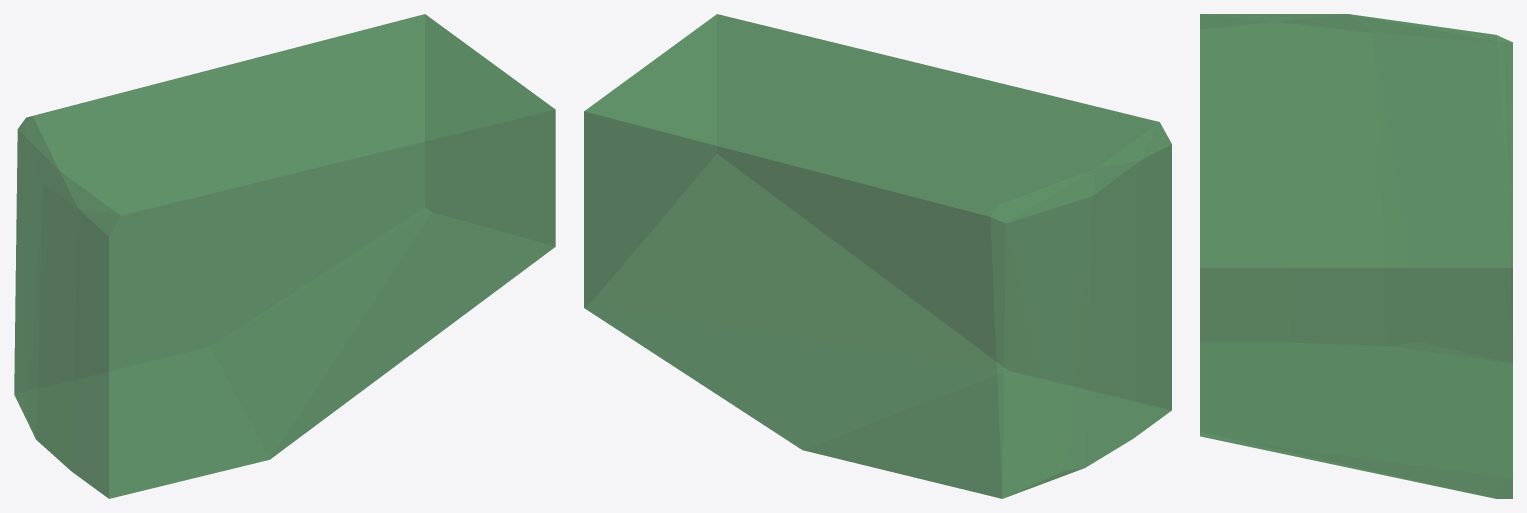
3 views of the same model, side by side, from view 1: azimuth 30°, elevation 25°; view 2: azimuth 150°, elevation 25°; view 3: azimuth 270°, elevation 25° (orthographic). The views are drawn at different scales.
Visible parts, largest first — view 1: Shape_IndexedFaceSet.003_Shape_IndexedFaceSet.17578; view 2: Shape_IndexedFaceSet.003_Shape_IndexedFaceSet.17578; view 3: Shape_IndexedFaceSet.003_Shape_IndexedFaceSet.17578.
Boxes of the visible parts, x1,y1,x2,y2 form: Shape_IndexedFaceSet.003_Shape_IndexedFaceSet.17578: (14,14,555,498); Shape_IndexedFaceSet.003_Shape_IndexedFaceSet.17578: (584,14,1171,498); Shape_IndexedFaceSet.003_Shape_IndexedFaceSet.17578: (1200,14,1512,498).
Size of the model in its own units: 0.1322 by 0.0793 by 0.067.
